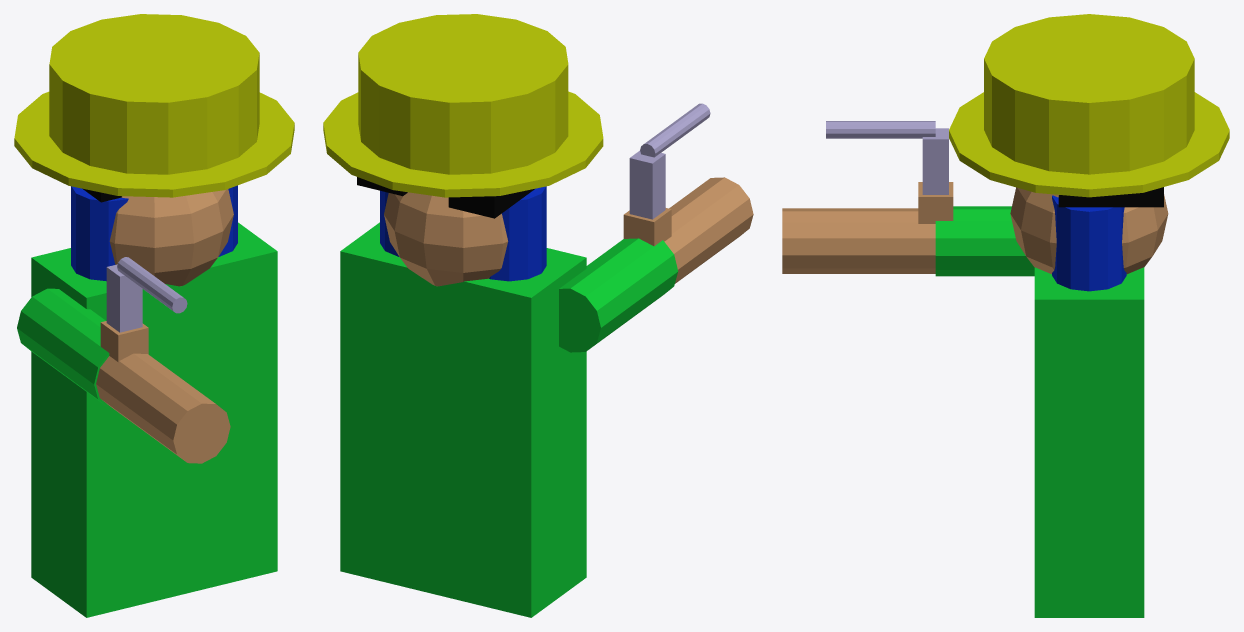
The model's file is gunslinger_b_with_color_final.obj.
The picture shows the model from 3 angles, left to right: view 1: azimuth 30°, elevation 25°; view 2: azimuth 150°, elevation 25°; view 3: azimuth 270°, elevation 25°; orthographic projection.
Visible parts, largest first — view 1: gunslinger_a_final; view 2: gunslinger_a_final; view 3: gunslinger_a_final.
Boxes of the visible parts, x1,y1,x2,y2 form: gunslinger_a_final: [14, 14, 294, 617]; gunslinger_a_final: [323, 14, 753, 617]; gunslinger_a_final: [782, 14, 1229, 617].
Bounding box in the file's own units: 0.68 × 1.29 × 1.02.
